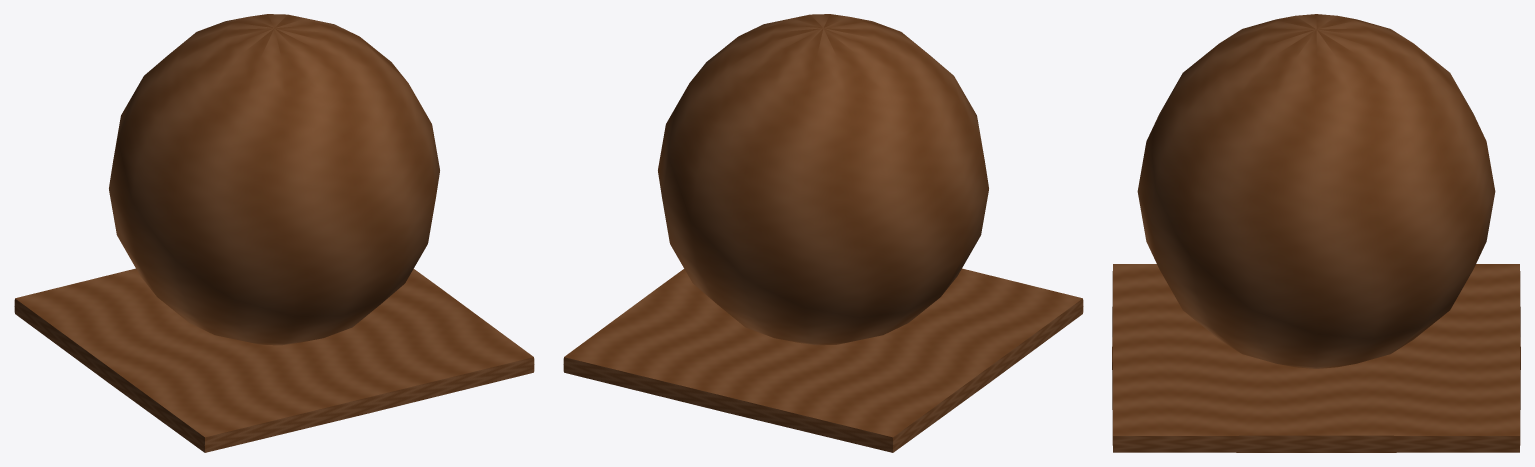
The picture shows the model from 3 angles, left to right: view 1: azimuth 30°, elevation 25°; view 2: azimuth 150°, elevation 25°; view 3: azimuth 270°, elevation 25°; orthographic projection. The views are drawn at different scales.
Visible parts, largest first — view 1: surface.0, surface.1; view 2: surface.0, surface.1; view 3: surface.0, surface.1.
Boxes of the visible parts, x1=… form: surface.0: x1=109, y1=14, x2=439, y2=345; surface.1: x1=14, y1=268, x2=534, y2=452; surface.0: x1=658, y1=14, x2=988, y2=345; surface.1: x1=563, y1=268, x2=1083, y2=452; surface.0: x1=1137, y1=14, x2=1495, y2=368; surface.1: x1=1112, y1=264, x2=1520, y2=452.
Size of the model in its own units: 0.8 by 0.73 by 0.8.
Materials: 1 (1 with a texture image).
